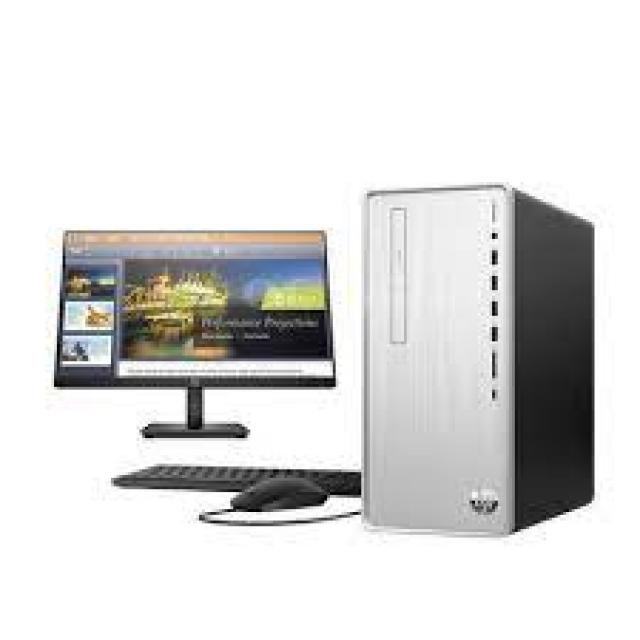Computer: (358, 175, 600, 544)
Monitor: (43, 216, 343, 402)
